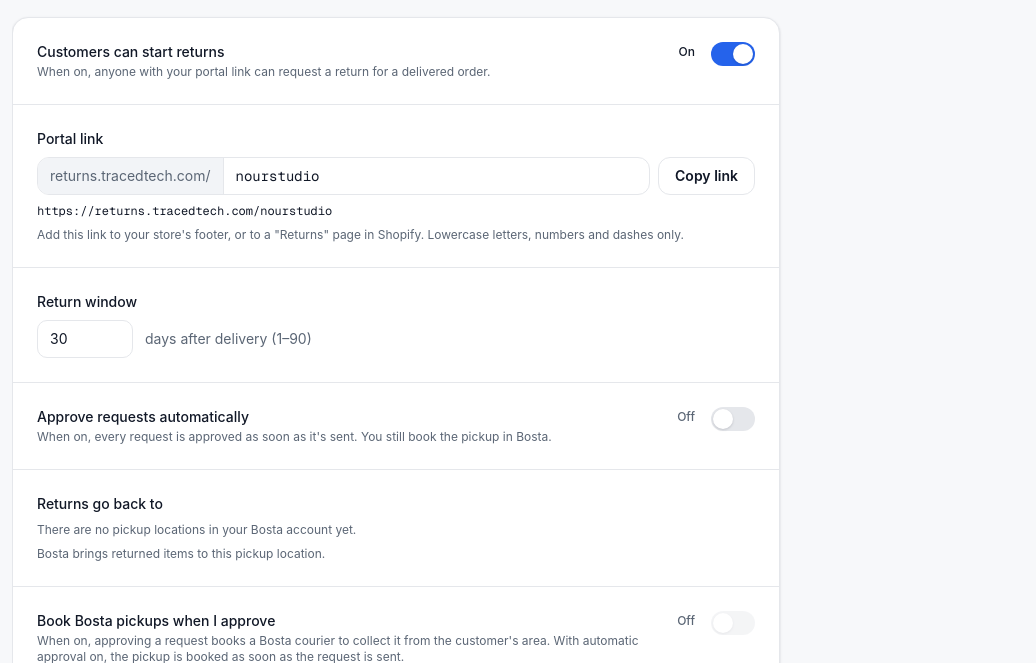
Test case: Settings → Returns portal › a 400 on the return window shows under the window field
Expected: the field showing "nourstudio" is shown, top-left (224, 158), bottom-right (649, 194)
Step 1. Replace the text in the number field labelled "Return window" with "120" → (85, 339), box top-left (37, 320), bottom-right (133, 358)
(page scrolled)
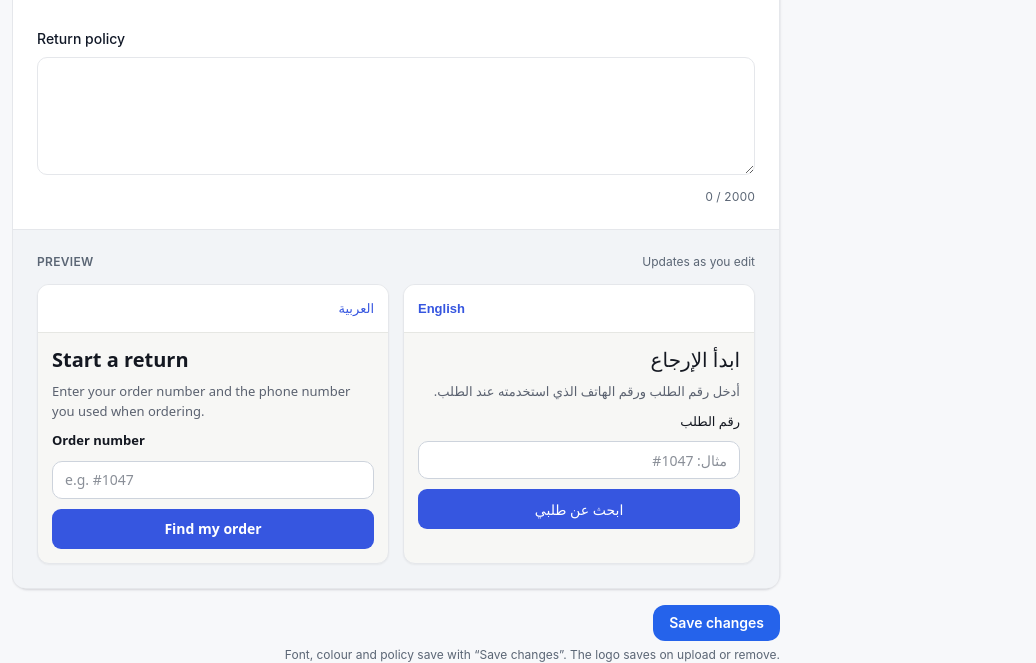
Step 2. Click the button "Save changes" → click(717, 623), box top-left (653, 605), bottom-right (780, 641)
(page scrolled)
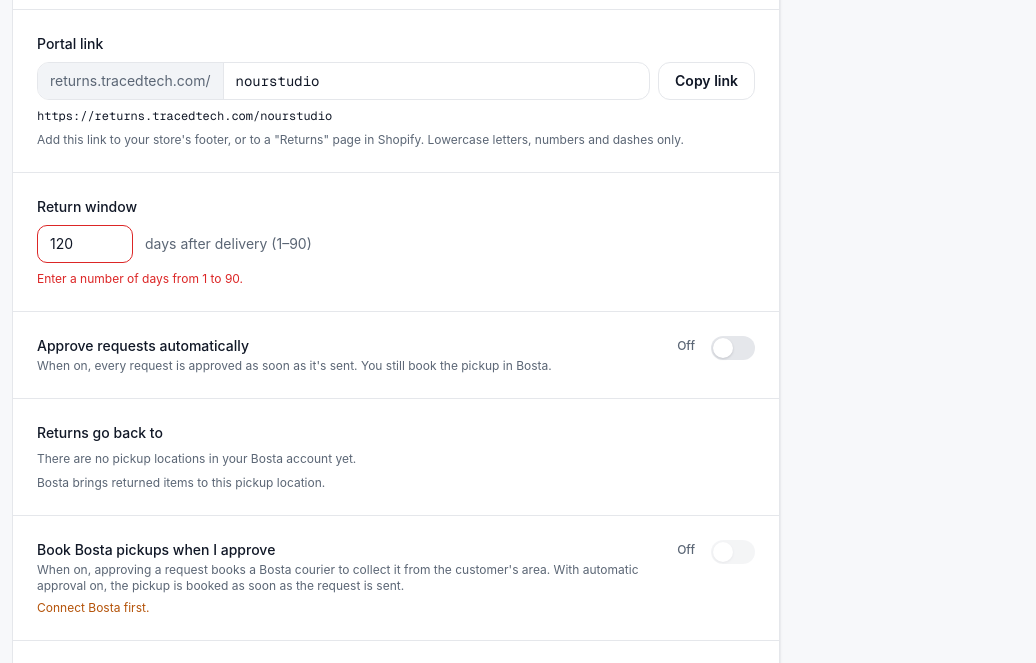
Result: the message with test id "error-returnWindowDays" reads "Enter a number of days from 1 to 90." at top-left (37, 271), bottom-right (243, 286)
